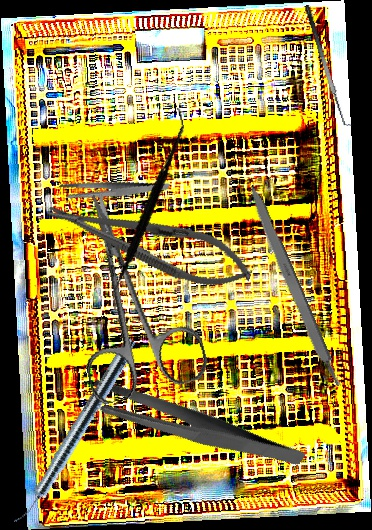Dressing Forceps: (83, 335, 307, 518), (57, 159, 170, 220)
Handpiece: (10, 334, 140, 530)
Iris Scissors: (43, 178, 212, 407)
Needle Holder: (40, 183, 260, 301)
Scalpel Handle: (243, 183, 343, 390)
Spatula Surgical: (77, 107, 216, 312), (303, 1, 355, 130)
